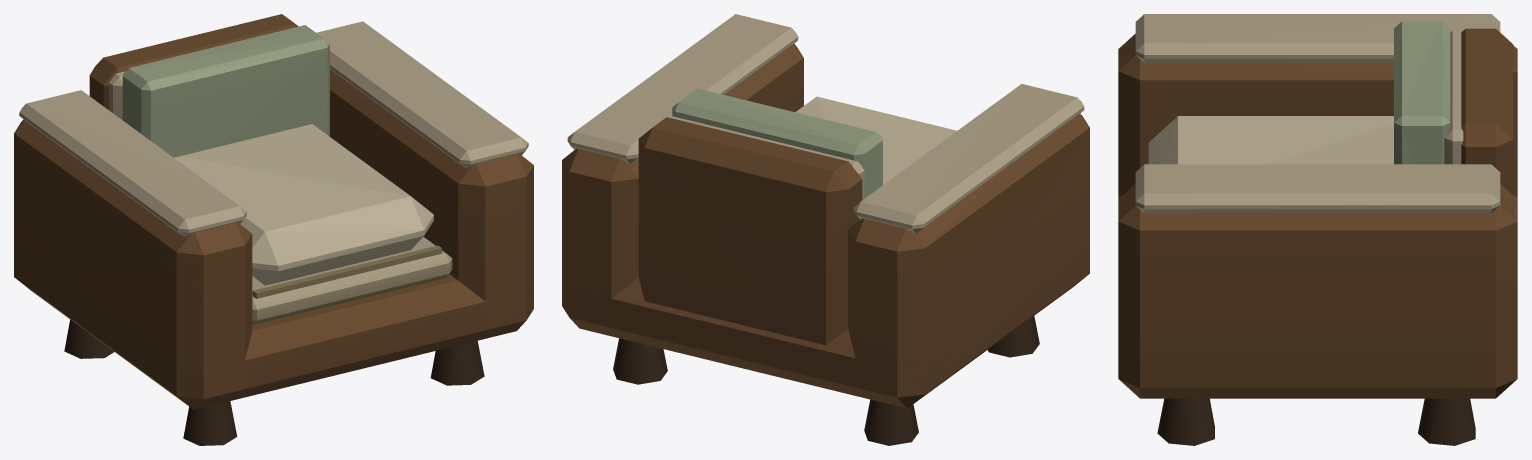
Rendered from armchair.glb.
3 renders of one model, left to right at view 1: azimuth 30°, elevation 25°; view 2: azimuth 150°, elevation 25°; view 3: azimuth 270°, elevation 25°, orthographic. The views are drawn at different scales.
Parts seen in each view (by area): view 1: armchair; view 2: armchair; view 3: armchair.
Part boxes in pixels (box(x1,y1,x2,y2)): armchair: box(14, 14, 533, 445); armchair: box(562, 14, 1089, 445); armchair: box(1118, 14, 1517, 445).
Size of the model in its own units: 1.04 by 0.76 by 0.92.
